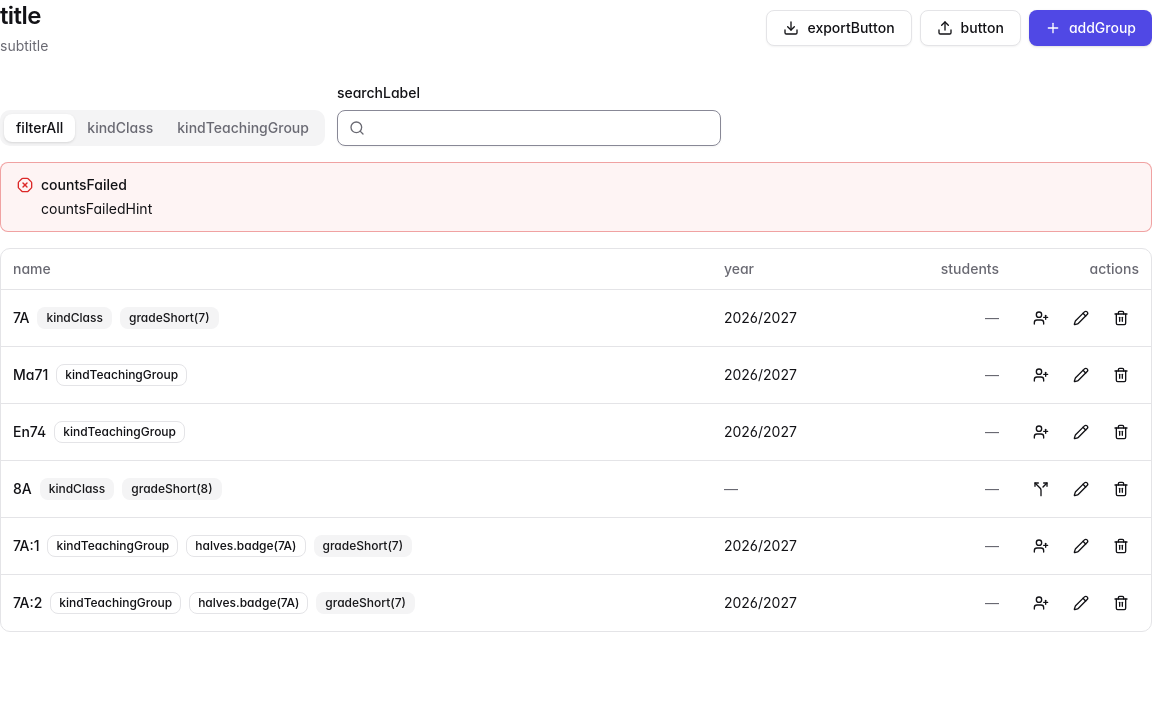
Halvklasser: what the placement will not do › says a failed read instead of drawing every pupil in no half
Click the 1st button named "halves.placeTitle(7A)" at [1041, 318], box [1023,300,1059,336]
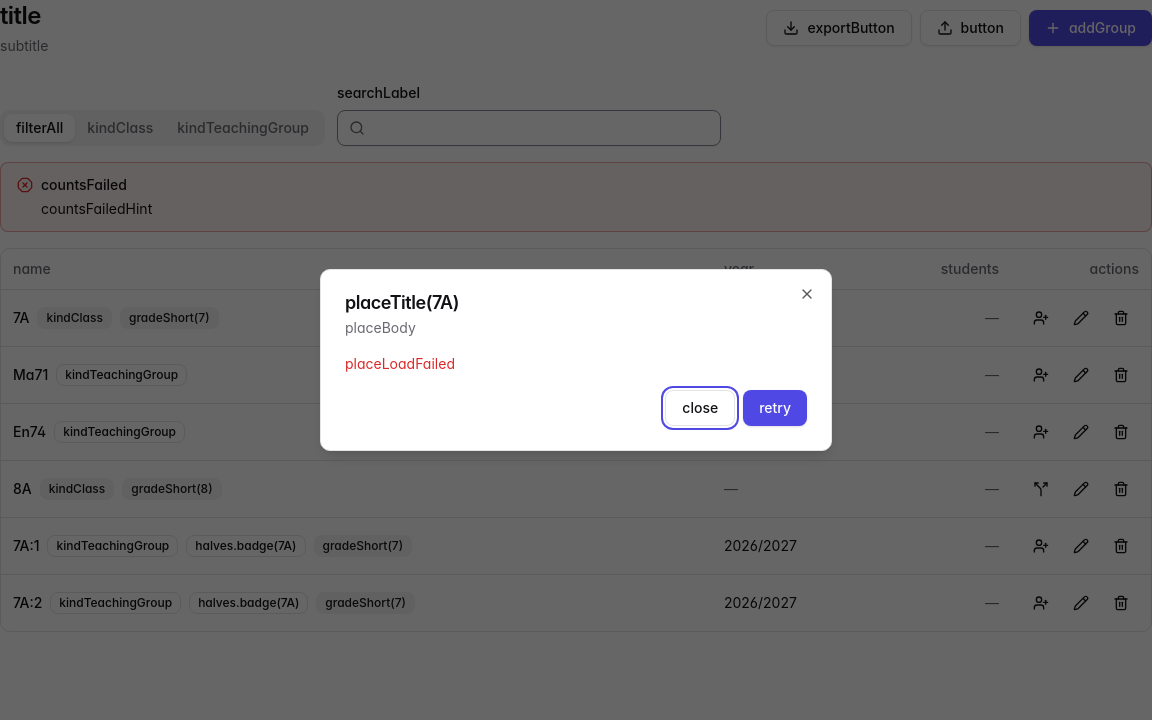
Result: the message reads "placeLoadFailed" at [345,355,455,372]
